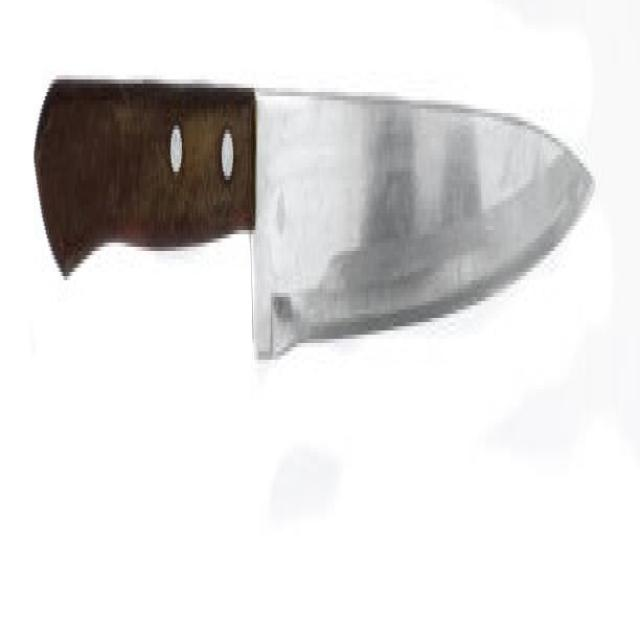knife: (29, 67, 601, 389)
